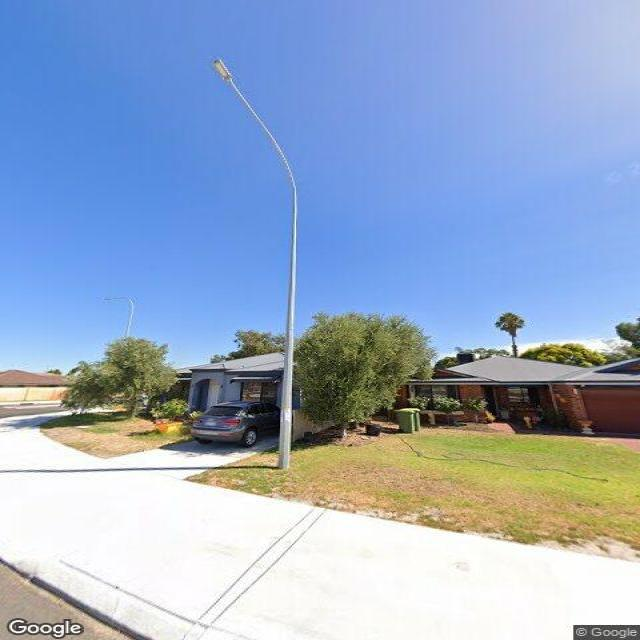steel-pole: (276, 184, 298, 470)
streetlight: (213, 57, 297, 190), (102, 296, 136, 308)
